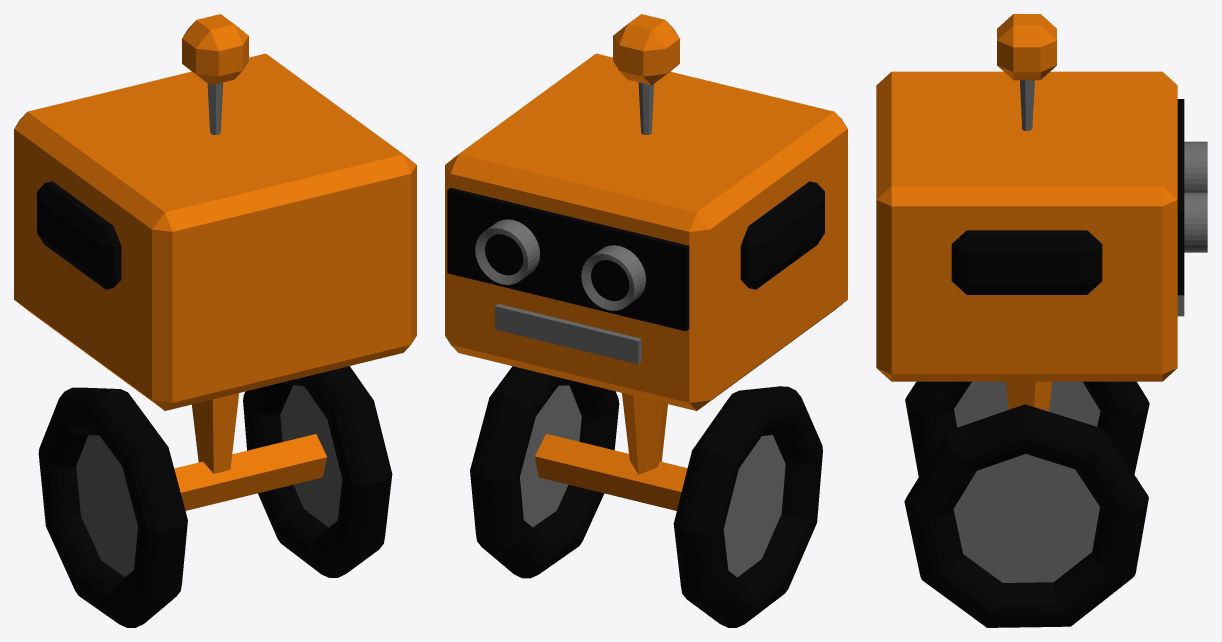
The model's file is robot.glb.
The picture shows the model from 3 angles, left to right: view 1: azimuth 30°, elevation 25°; view 2: azimuth 150°, elevation 25°; view 3: azimuth 270°, elevation 25°; orthographic projection.
Parts seen in each view (by area): view 1: Robot, Wheel.001, Wheel; view 2: Robot, Wheel.001, Wheel; view 3: Robot, Wheel, Wheel.001.
Part boxes in pixels (x1=…): Robot: x1=14, y1=14, x2=416, y2=510; Wheel.001: x1=38, y1=387, x2=187, y2=627; Wheel: x1=243, y1=366, x2=392, y2=577; Robot: x1=445, y1=14, x2=847, y2=510; Wheel.001: x1=673, y1=386, x2=822, y2=627; Wheel: x1=470, y1=366, x2=619, y2=578; Robot: x1=876, y1=14, x2=1207, y2=411; Wheel: x1=904, y1=404, x2=1148, y2=627; Wheel.001: x1=905, y1=381, x2=1149, y2=476.
Size of the model in its own units: 1.12 by 2.04 by 1.1.
